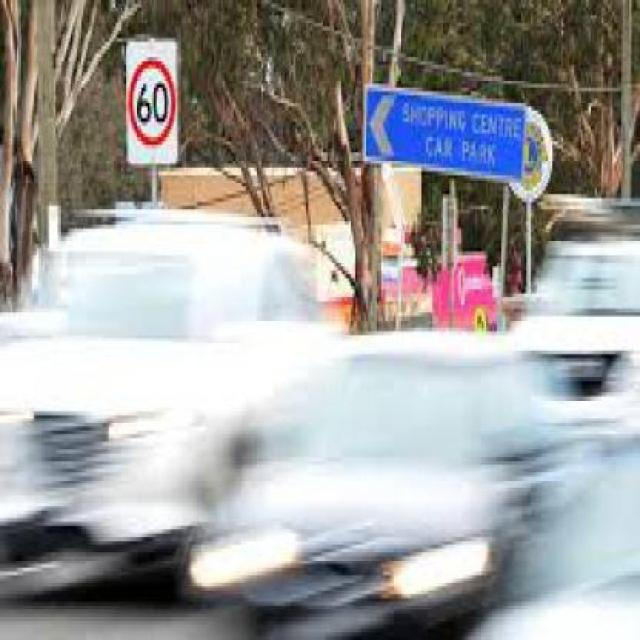forb_speed_over_60: (126, 53, 180, 156)
